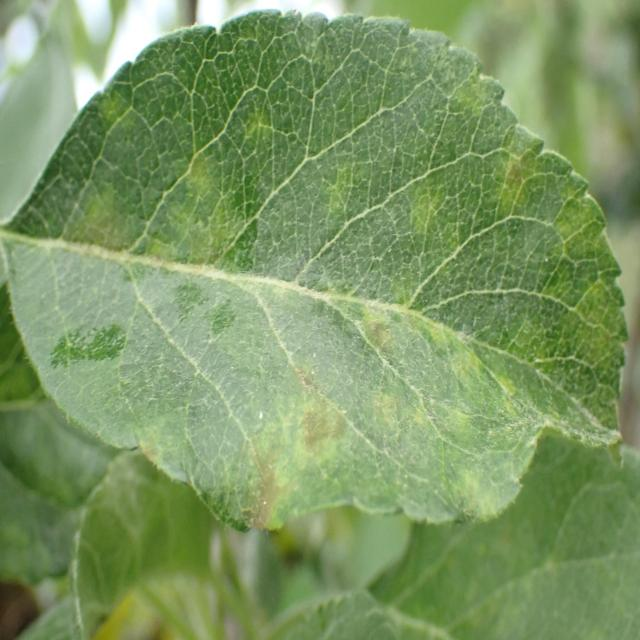scab: (39, 68, 572, 544)
